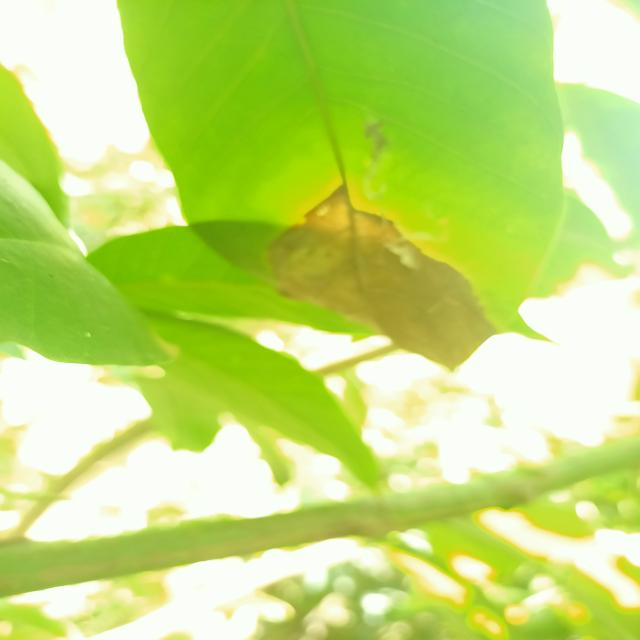Leaf-Blight: (268, 183, 498, 372)
